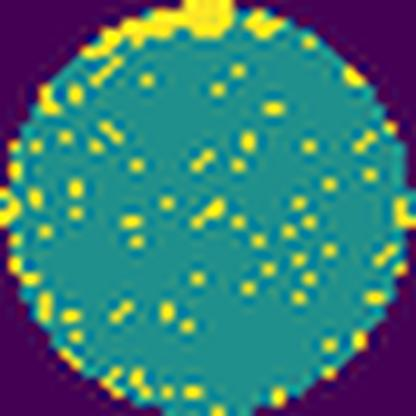Edge-Loc: (81, 0, 234, 65), (243, 0, 292, 46)
